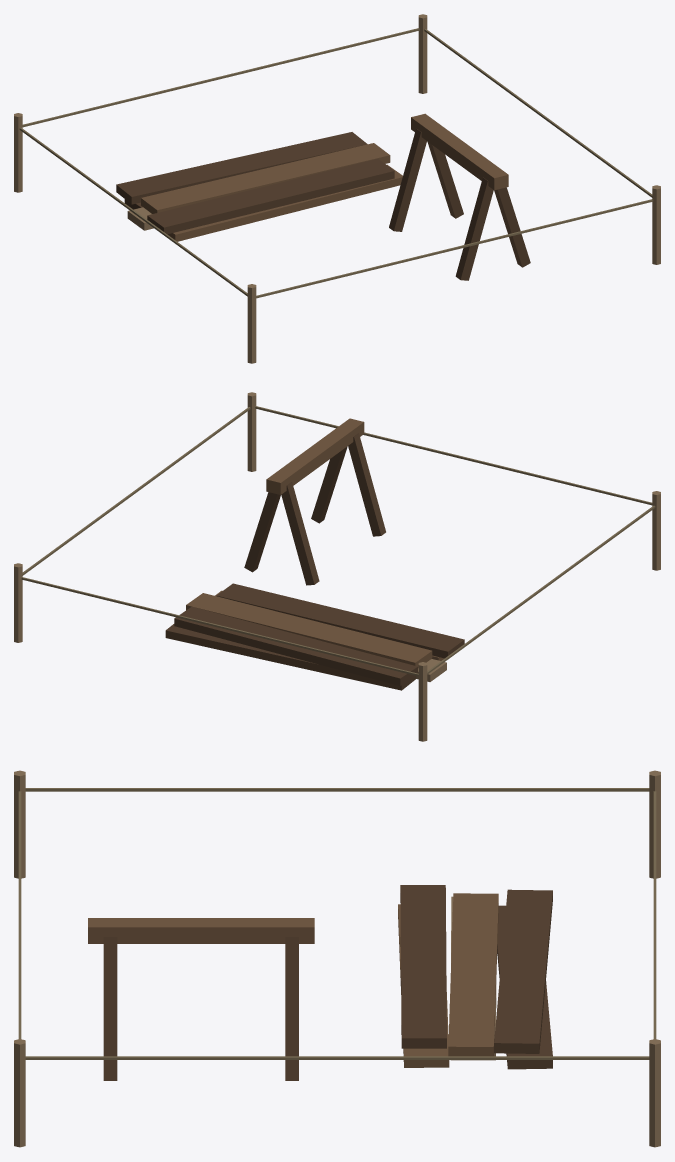
File: room_site_small.glb
3 renders of one model, top to bottom at view 1: azimuth 30°, elevation 25°; view 2: azimuth 150°, elevation 25°; view 3: azimuth 270°, elevation 25°, orthographic. The views are drawn at different scales.
Visible parts, largest first — view 1: room_site_small; view 2: room_site_small; view 3: room_site_small.
Boxes of the visible parts, <box> form: room_site_small: <box>14,14,660,363</box>; room_site_small: <box>14,392,660,741</box>; room_site_small: <box>14,770,660,1147</box>.
Size of the model in its own units: 2.86 by 0.6746 by 2.85.
